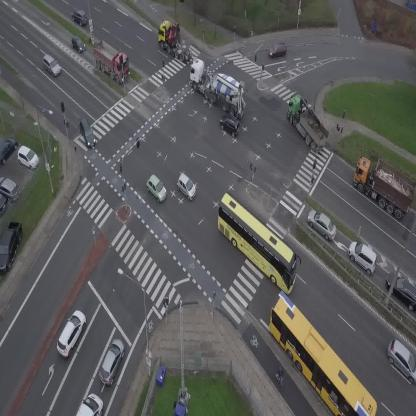bicycle: (276, 366, 283, 384)
bus: (251, 289, 383, 416), (201, 191, 313, 296)
car: (52, 308, 90, 358), (95, 336, 129, 387), (342, 237, 385, 277), (302, 205, 343, 244), (141, 173, 171, 204), (172, 172, 201, 201), (216, 111, 244, 138), (38, 52, 64, 79), (77, 117, 97, 148), (69, 5, 91, 27), (67, 33, 88, 55), (267, 42, 287, 57)
lorry: (179, 56, 258, 121), (278, 90, 334, 154), (84, 36, 138, 87), (151, 15, 194, 68), (76, 393, 103, 416)
